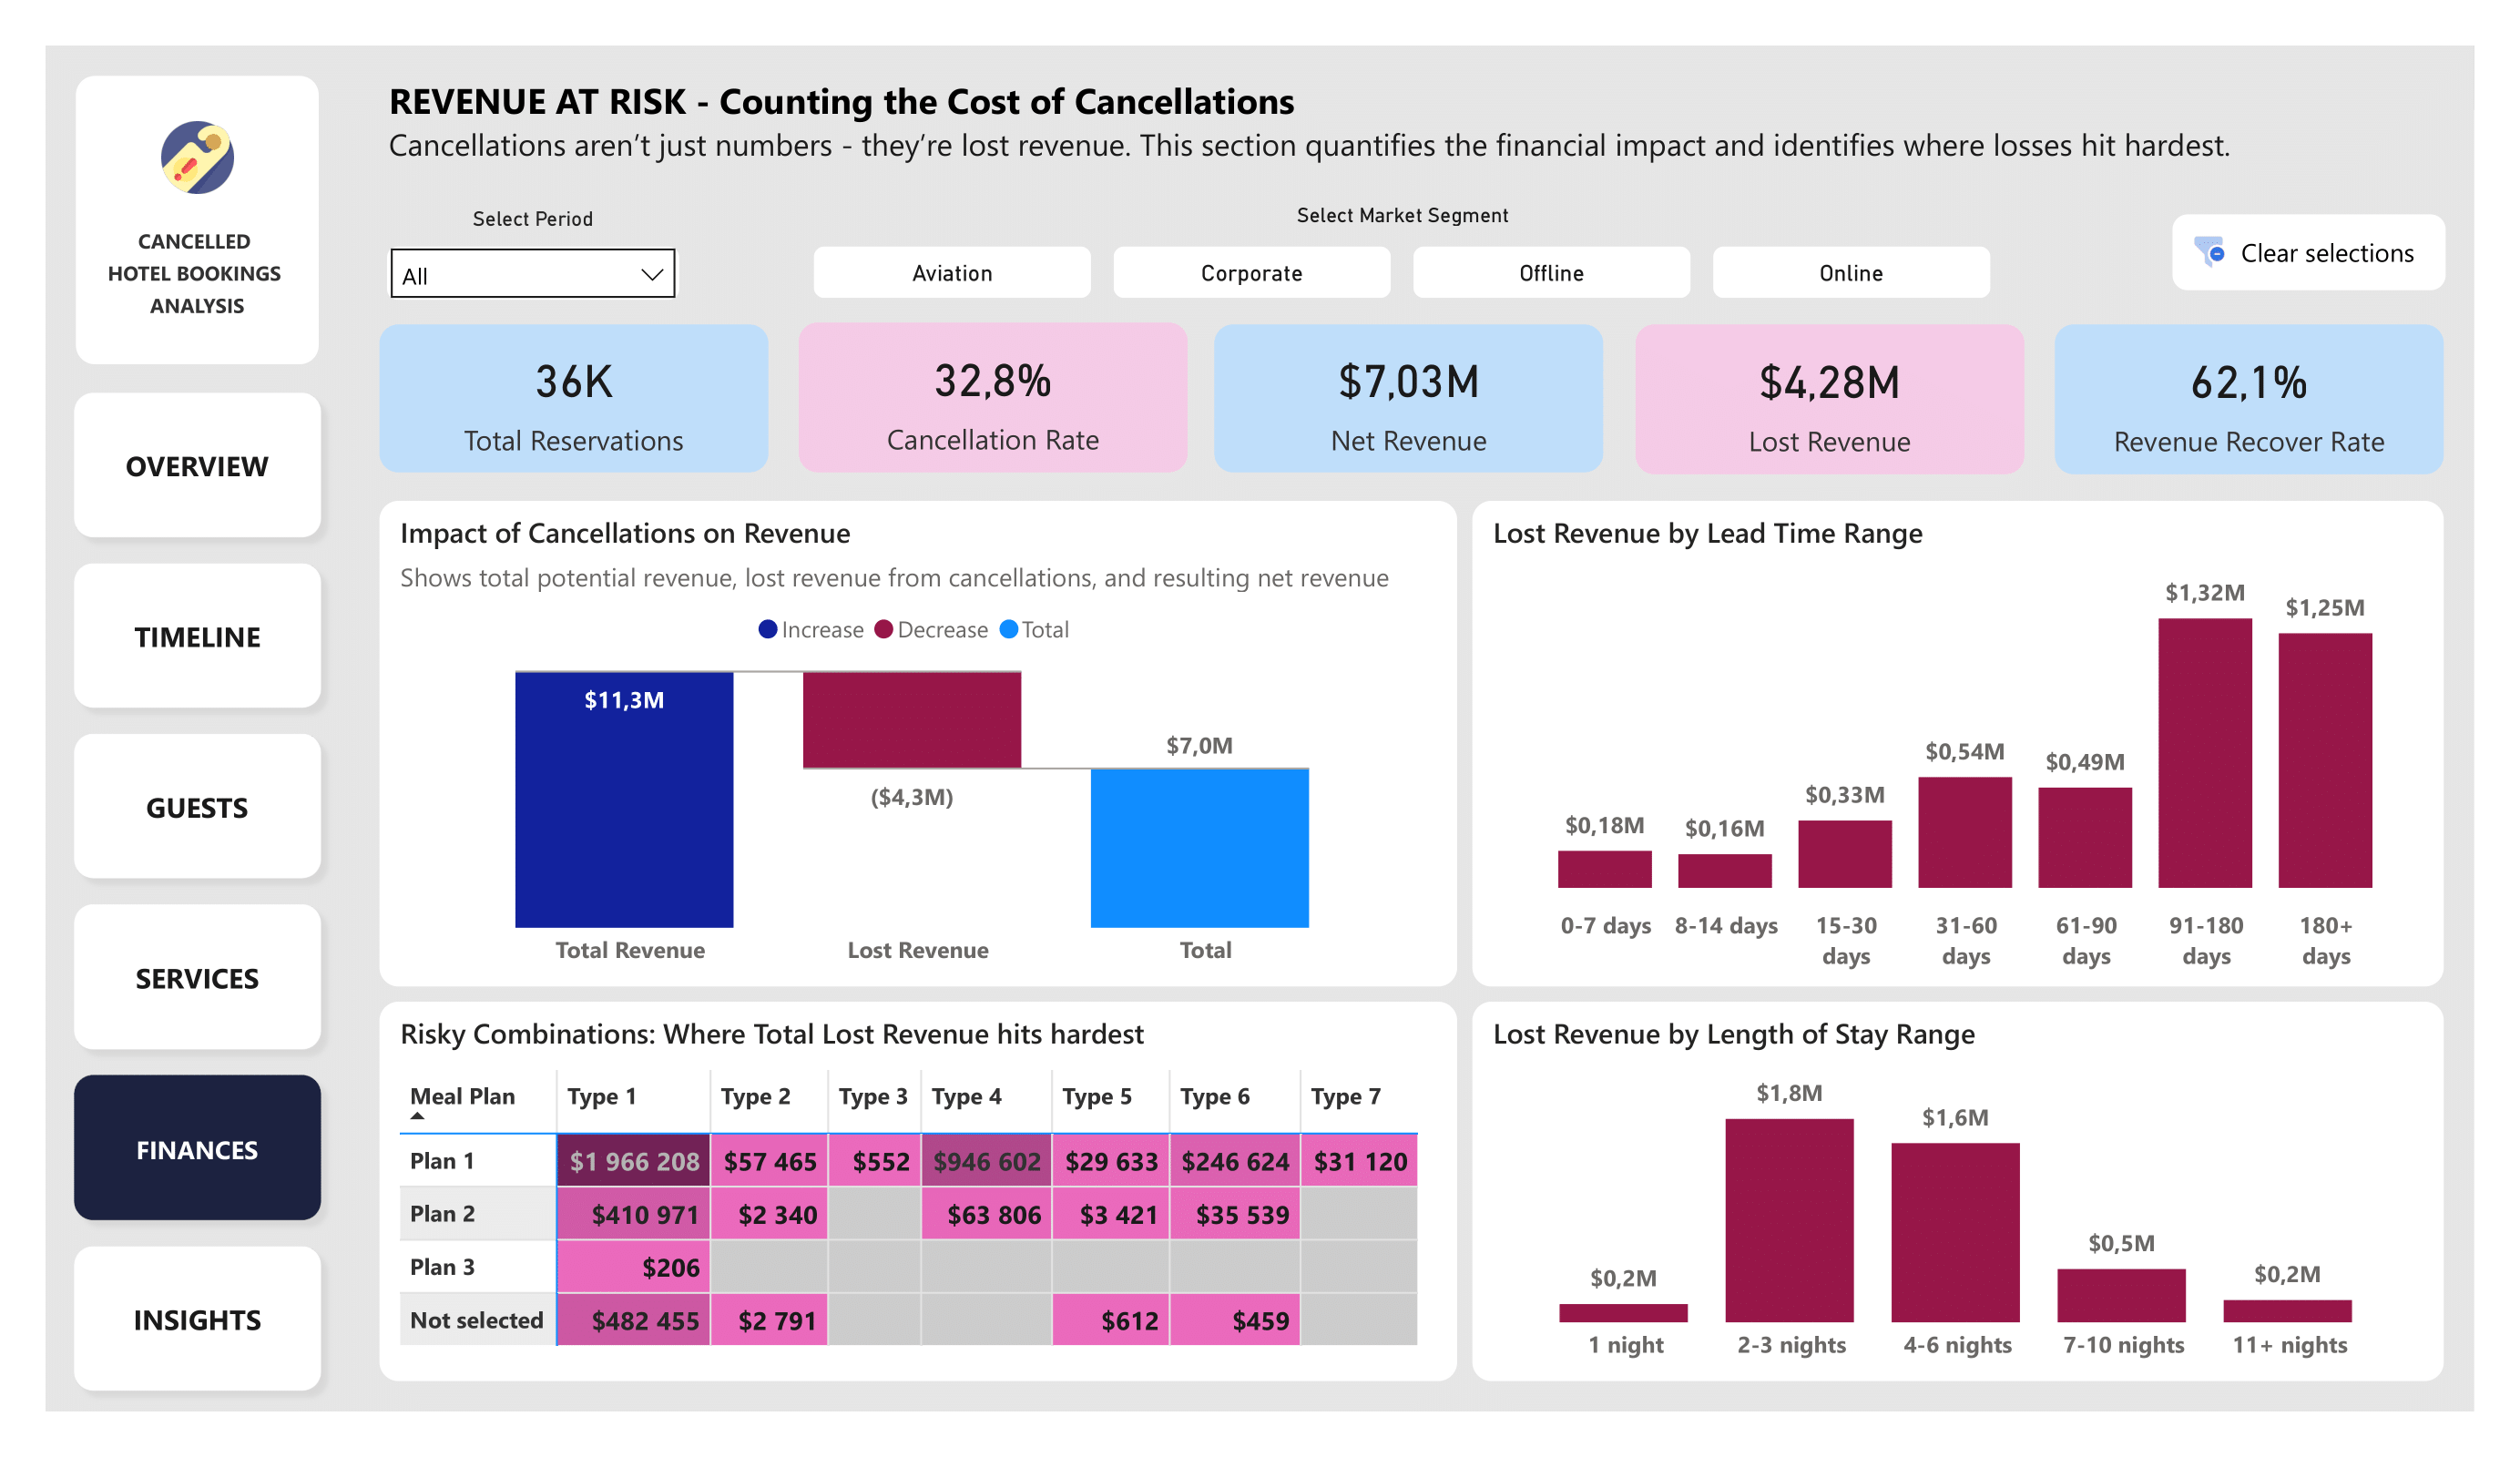

This screenshot's page, from the dashboard's own definition file:
{"tool":"powerbi","page":{"name":"FINANCES","canvas":[1280,720],"ordinal":4},"visuals":[{"type":"textbox","box":[16,16,128,144],"z":0},{"type":"advancedSlicerVisual","title":"Select Market Segment","fields":{"Values":["Reservations.Market segment"]},"box":[399.9,73,631,64],"z":0,"group":"g1"},{"type":"shape","box":[180,106,154,28],"z":0,"group":"g4"},{"type":"card","fields":{"Values":["_Measures.Total Reservations"]},"box":[176,147,205,78.2],"z":0,"group":"g3"},{"type":"slicer","title":" Select Period","fields":{"Values":["Calendar.Date.Variation.Date Hierarchy.Year","Calendar.Date.Variation.Date Hierarchy.Quarter","Calendar.Date.Variation.Date Hierarchy.Month"]},"box":[177,85,160,48],"z":1000,"group":"g4"},{"type":"card","fields":{"Values":["_Measures.Cancellation Rate"]},"box":[396.6,146,205,78.9],"z":1000,"group":"g3"},{"type":"pageNavigator","box":[8.2,167.2,144.3,549.2],"z":1000},{"type":"textbox","box":[176,6,1096,72],"z":2000},{"type":"group","id":"g1","title":"Group 3","box":[399.9,73,864.1,64],"z":2000,"group":"g5"},{"type":"group","id":"g2","title":"Group 2","box":[1119.5,89,144.5,40],"z":2000,"group":"g1"},{"type":"card","fields":{"Values":["_Measures.Total Net Revenue"]},"box":[615.7,146.6,205,78.3],"z":2000,"group":"g3"},{"type":"image","box":[48,32,64,48],"z":3000},{"type":"card","fields":{"Values":["_Measures.Lost revenue"]},"box":[838.2,147.1,205,78.9],"z":3000,"group":"g3"},{"type":"card","fields":{"Values":["_Measures.Revenue recover rate"]},"box":[1059,147.1,205,78.9],"z":4000,"group":"g3"},{"type":"waterfallChart","title":"Impact of Cancellations on Revenue","fields":{"Category":["Revenue Steps.StepName"],"Y":["_Measures.Waterfall Value"]},"box":[176,240,568,256],"z":4000},{"type":"columnChart","fields":{"Y":["_Measures.Total Lost Revenue"],"Category":["Reservations.Length of Stay Range"]},"box":[752,504,512,200],"z":5000},{"type":"actionButton","box":[1120.1,89,143.9,40],"z":6000,"group":"g2"},{"type":"columnChart","fields":{"Y":["_Measures.Total Lost Revenue"],"Category":["Reservations.Lead Time Range"]},"box":[752,240,512,256],"z":6000},{"type":"pivotTable","title":"Risky Combinations: Where Total Lost Revenue hits hardest","fields":{"Columns":["Reservations.Room Type"],"Rows":["Reservations.Meal Plan Type"],"Values":["_Measures.Total Lost Revenue"]},"box":[176,504,568,200],"z":7000},{"type":"group","id":"g3","title":"Group 1","box":[176,146,1088,80],"z":8000},{"type":"group","id":"g4","title":"Group 4","box":[177,85,160,49],"z":8001,"group":"g5"},{"type":"group","id":"g5","title":"Group 6","box":[177,73,1087,64],"z":9000},{"type":"image","box":[1119.5,93,40,32],"z":11000,"group":"g2"}]}

Visuals, with their boxes on the page's 1280x720 design canvas (x1, y1, x2, y2). These are canvas units, not pixel positions in the 2520x1457 screenshot, which may show the page scaled, cropped or inside an application window:
textbox: (16,16,144,160)
"Select Market Segment" advancedSlicerVisual: (400,73,1031,137)
shape: (180,106,334,134)
card - _Measures.Total Reservations: (176,147,381,225)
" Select Period" slicer: (177,85,337,133)
card - _Measures.Cancellation Rate: (397,146,602,225)
pageNavigator: (8,167,152,716)
textbox: (176,6,1272,78)
"Group 3" group: (400,73,1264,137)
"Group 2" group: (1120,89,1264,129)
card - _Measures.Total Net Revenue: (616,147,821,225)
image: (48,32,112,80)
card - _Measures.Lost revenue: (838,147,1043,226)
card - _Measures.Revenue recover rate: (1059,147,1264,226)
"Impact of Cancellations on Revenue" waterfallChart: (176,240,744,496)
columnChart - _Measures.Total Lost Revenue x Reservations.Length of Stay Range: (752,504,1264,704)
actionButton: (1120,89,1264,129)
columnChart - _Measures.Total Lost Revenue x Reservations.Lead Time Range: (752,240,1264,496)
"Risky Combinations: Where Total Lost Revenue hits hardest" pivotTable: (176,504,744,704)
"Group 1" group: (176,146,1264,226)
"Group 4" group: (177,85,337,134)
"Group 6" group: (177,73,1264,137)
image: (1120,93,1160,125)
